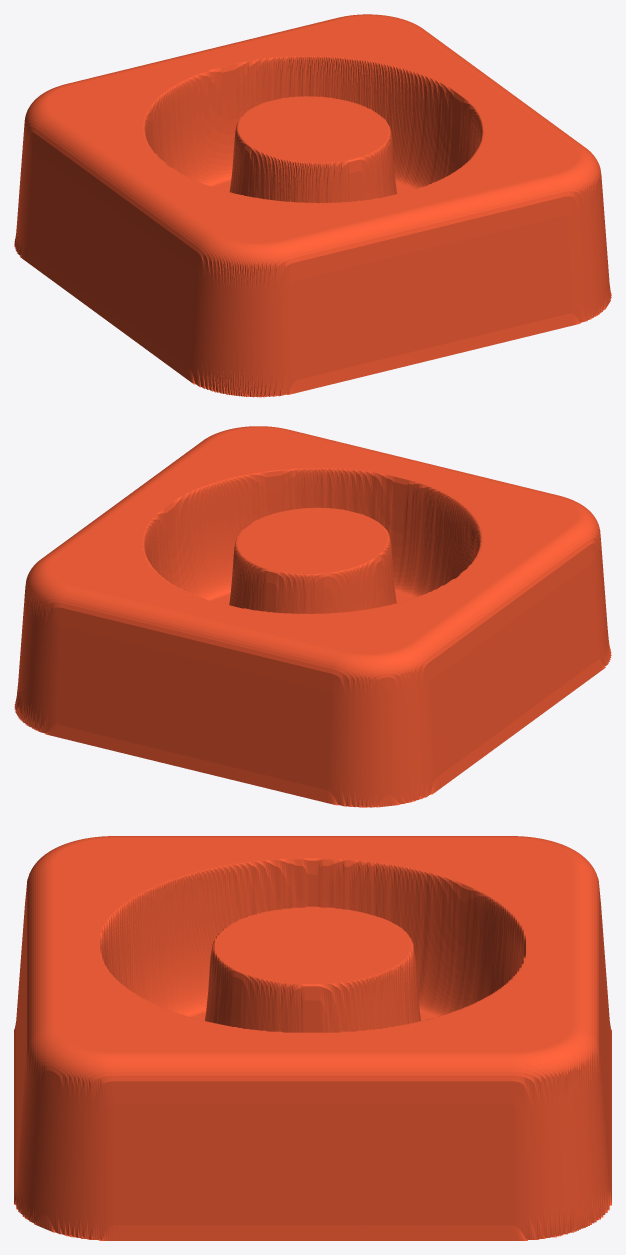
The model's file is mold.glb.
3 views of the same model, one above another, from view 1: azimuth 30°, elevation 25°; view 2: azimuth 150°, elevation 25°; view 3: azimuth 270°, elevation 25° (orthographic). The views are drawn at different scales.
Parts seen in each view (by area): view 1: geometry_0; view 2: geometry_0; view 3: geometry_0.
Boxes of the visible parts, x1,y1,x2,y2 form: geometry_0: (14,14,611,397); geometry_0: (14,426,611,807); geometry_0: (14,836,611,1240).
Bounding box in the file's own units: 0.053 × 0.0172 × 0.0542.
